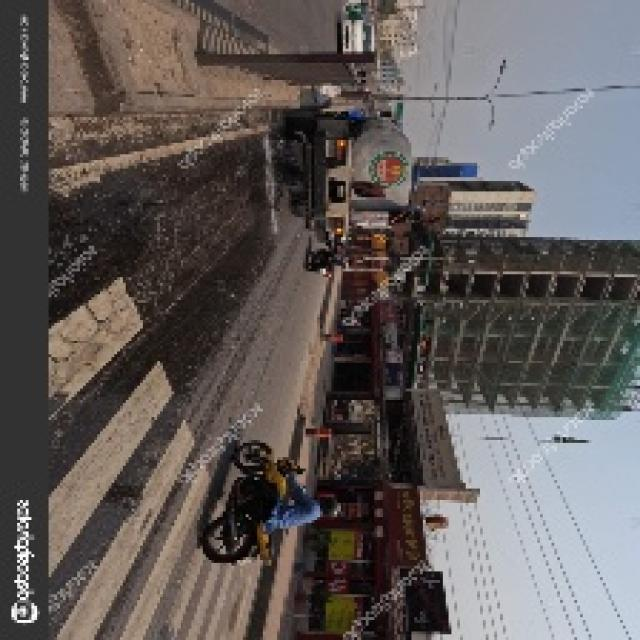bike: (205, 433, 304, 571), (300, 244, 348, 280)
car: (332, 14, 376, 57)
